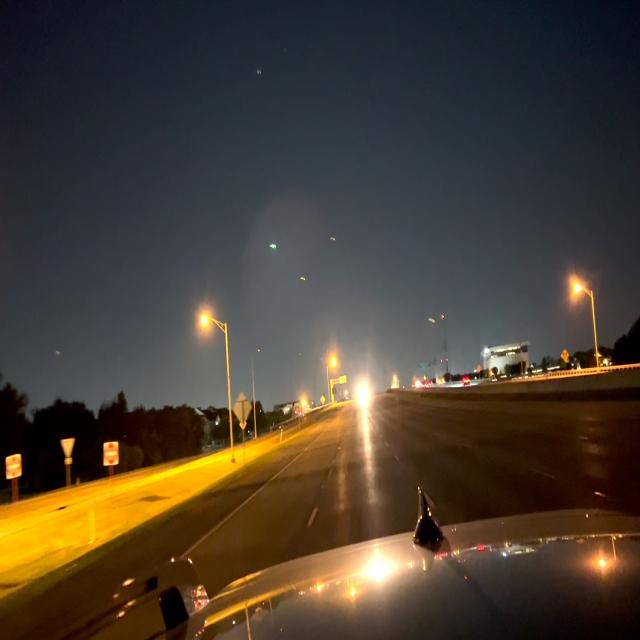back-of-sign: (233, 390, 252, 429)
